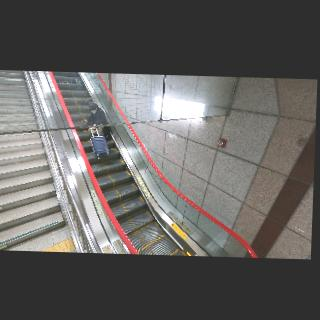anomaly: (79, 98, 114, 146)
